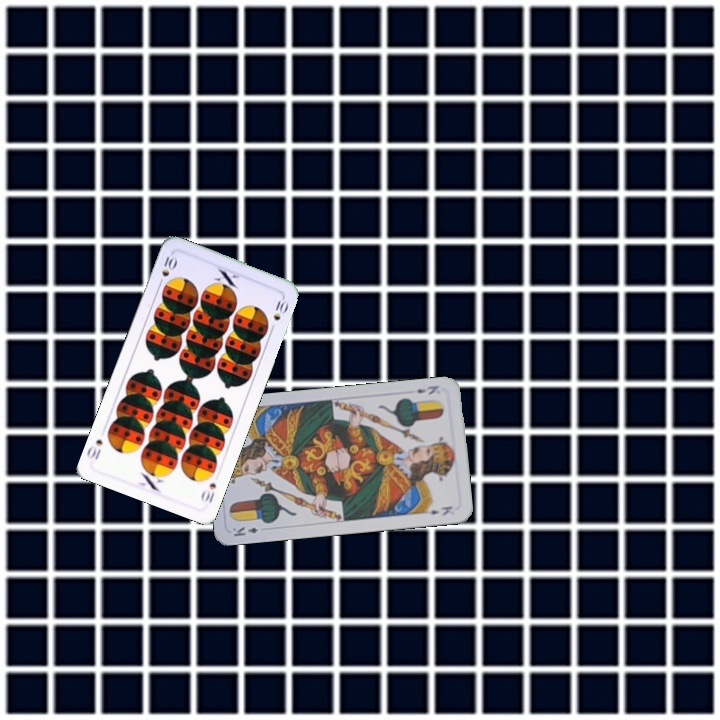EK: (228, 523, 261, 539), (412, 381, 441, 397)
S10: (154, 251, 180, 289), (197, 479, 219, 506)
